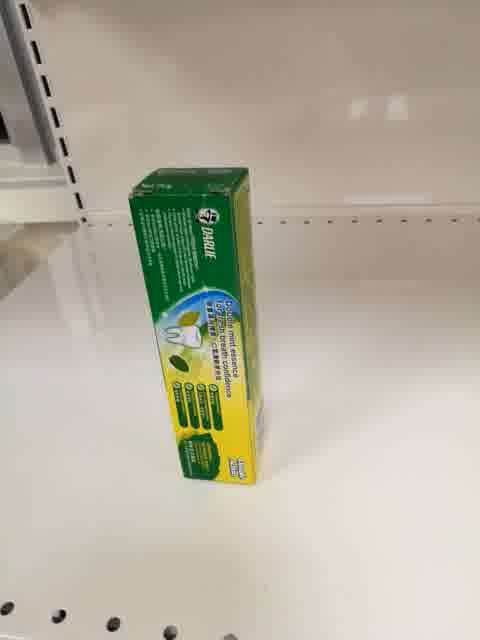toothpaste: (128, 167, 259, 485)
